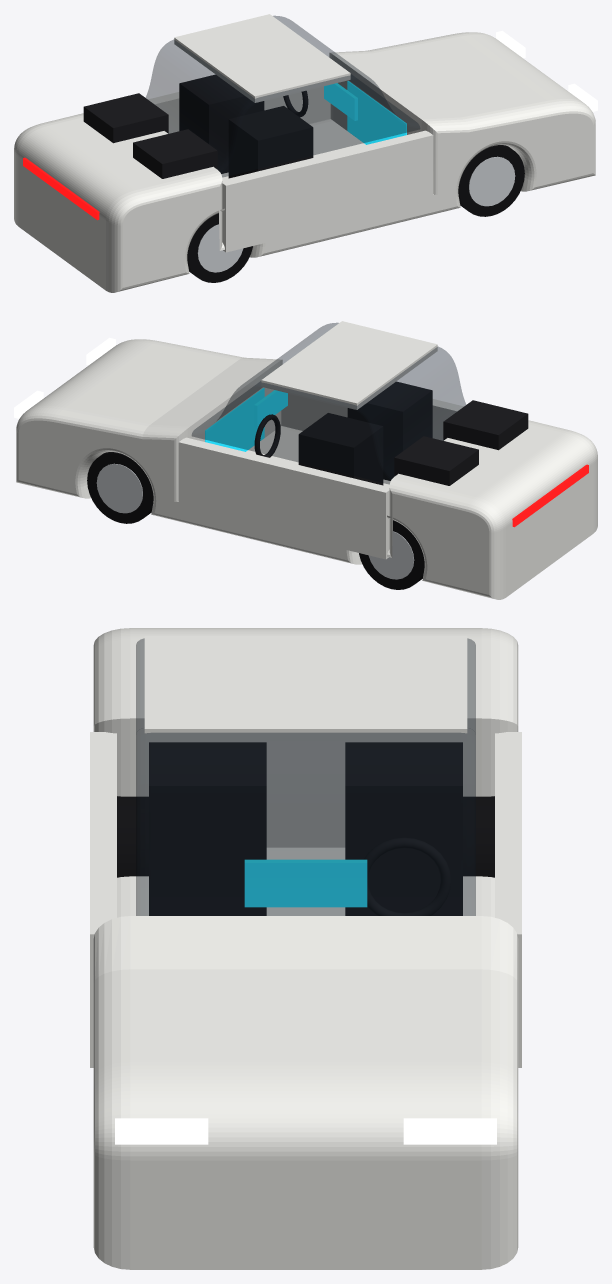
File: vios.glb
The picture shows the model from 3 angles, top to bottom: view 1: azimuth 30°, elevation 25°; view 2: azimuth 150°, elevation 25°; view 3: azimuth 270°, elevation 25°; orthographic projection. The views are drawn at different scales.
Visible parts, largest first — view 1: Exterior_Body_Shell, Cabin_Window_Glass, Door_Right_Body, Roof_Body_Panel, Interior_Seat_Passenger, Interior_Seat_Driver, Interior_Seat_RearL, Interior_Seat_RearR, Engine_Powertrain_Block, Wheel_Tire_FL, Door_Left_Body, Wheel_Rim_FL (+5 smaller); view 2: Exterior_Body_Shell, Cabin_Window_Glass, Door_Left_Body, Roof_Body_Panel, Interior_Seat_Driver, Interior_Seat_Passenger, Interior_Seat_RearR, Interior_Seat_RearL, Door_Right_Body, Wheel_Tire_FR, Engine_Powertrain_Block, Wheel_Rim_FR (+6 smaller); view 3: Exterior_Body_Shell, Cabin_Window_Glass, Roof_Body_Panel, Interior_Seat_Passenger, Interior_Seat_Driver, Center_Display_Screen_HUD, Door_Left_Body, Door_Right_Body, Wheel_Tire_RL, Wheel_Tire_RR, Front_Headlamp_Left, Front_Headlamp_Right (+1 smaller).
Part boxes in pixels (x1,y1,x2,y2): Exterior_Body_Shell: (14, 32, 595, 292); Cabin_Window_Glass: (145, 16, 419, 177); Door_Right_Body: (222, 130, 433, 252); Roof_Body_Panel: (174, 14, 350, 102); Interior_Seat_Passenger: (228, 106, 313, 178); Interior_Seat_Driver: (179, 74, 264, 173); Interior_Seat_RearL: (83, 93, 168, 143); Interior_Seat_RearR: (133, 129, 217, 178); Engine_Powertrain_Block: (347, 81, 406, 144); Wheel_Tire_FL: (458, 145, 524, 216); Door_Left_Body: (148, 86, 330, 133); Wheel_Rim_FL: (469, 156, 515, 206); Exterior_Body_Shell: (16, 339, 597, 599); Cabin_Window_Glass: (192, 323, 466, 484); Door_Left_Body: (178, 437, 389, 559); Roof_Body_Panel: (261, 321, 437, 409); Interior_Seat_Driver: (298, 413, 383, 485); Interior_Seat_Passenger: (347, 381, 432, 480); Interior_Seat_RearR: (443, 400, 528, 450); Interior_Seat_RearL: (394, 436, 478, 485); Door_Right_Body: (281, 393, 463, 440); Wheel_Tire_FR: (87, 452, 153, 523); Engine_Powertrain_Block: (205, 388, 264, 451); Wheel_Rim_FR: (96, 463, 142, 513); Exterior_Body_Shell: (93, 628, 518, 1269); Cabin_Window_Glass: (136, 638, 475, 915); Roof_Body_Panel: (144, 635, 467, 742); Interior_Seat_Passenger: (149, 742, 266, 915); Interior_Seat_Driver: (345, 742, 462, 915); Center_Display_Screen_HUD: (244, 859, 367, 907); Door_Left_Body: (495, 732, 521, 1067); Door_Right_Body: (90, 732, 116, 1067); Wheel_Tire_RL: (117, 796, 148, 877); Wheel_Tire_RR: (463, 796, 494, 877); Front_Headlamp_Left: (403, 1118, 496, 1144); Front_Headlamp_Right: (115, 1118, 208, 1144).
Bounding box in the file's own units: 4.61 × 1.52 × 1.76.
